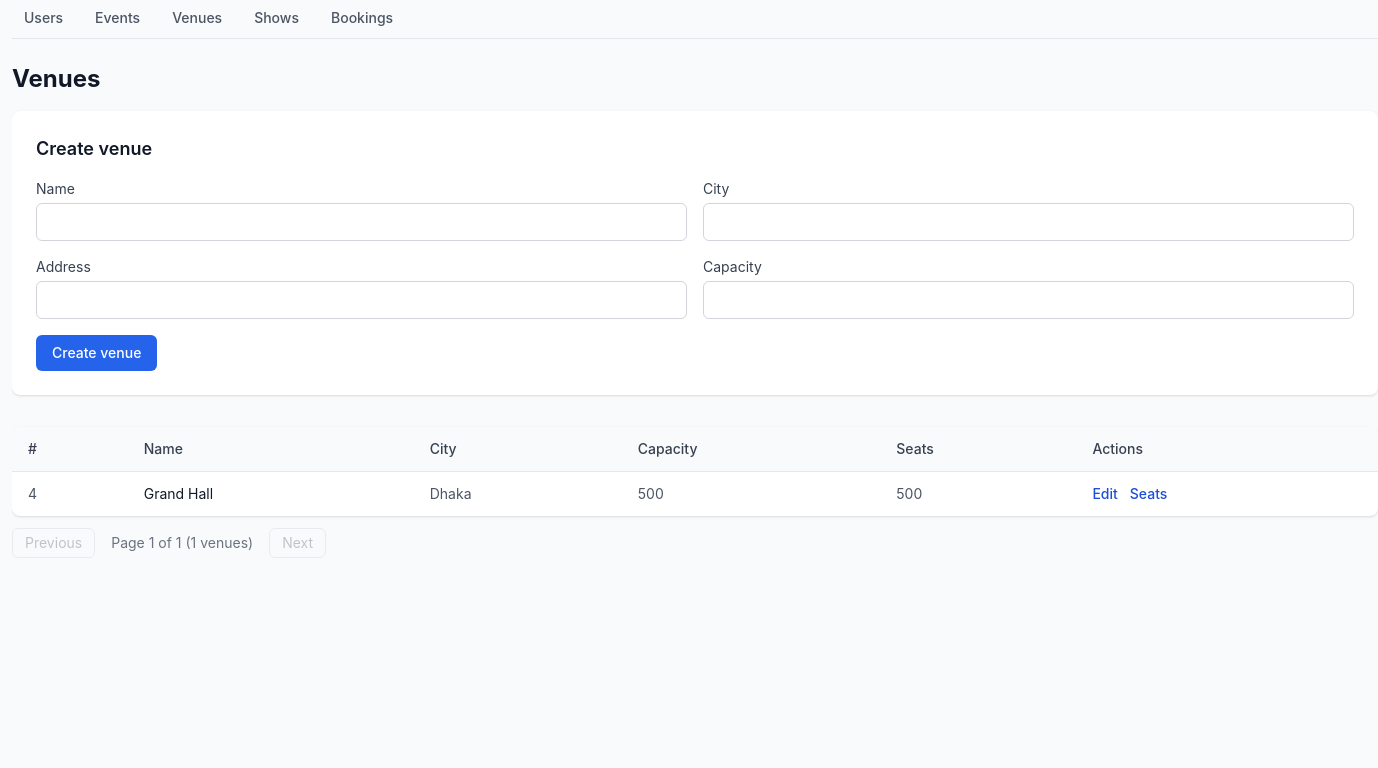
Test: AdminVenuesPage › renders venues and creates one via POST /admin/venues
Expected: the text "Grand Hall" is shown, [128,472,414,516]
Type "Test Hall" into the field named "Venue name". click: (362, 222)
box: [36,203,687,241]
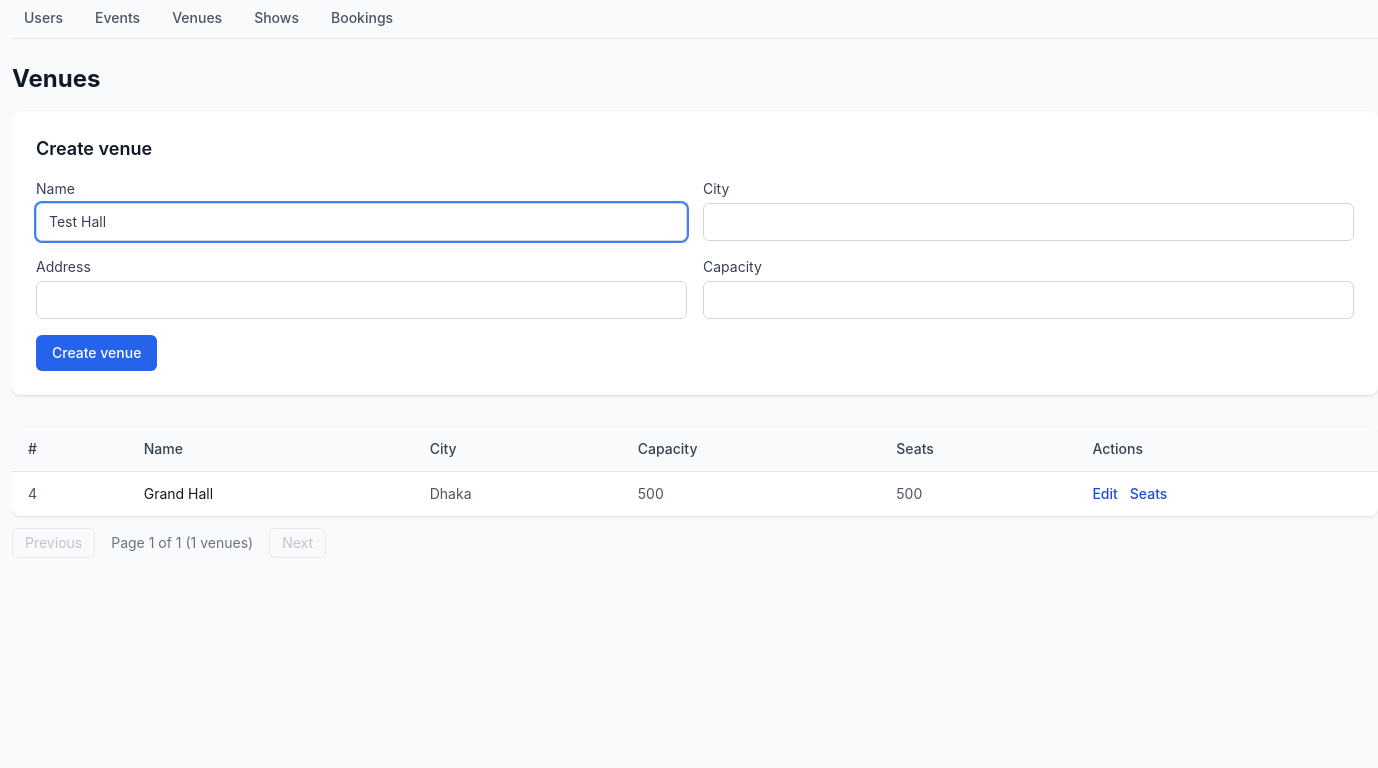
Type "Chattogram" into the field named "Venue city". click: (1028, 222)
box: [703,203,1354,241]
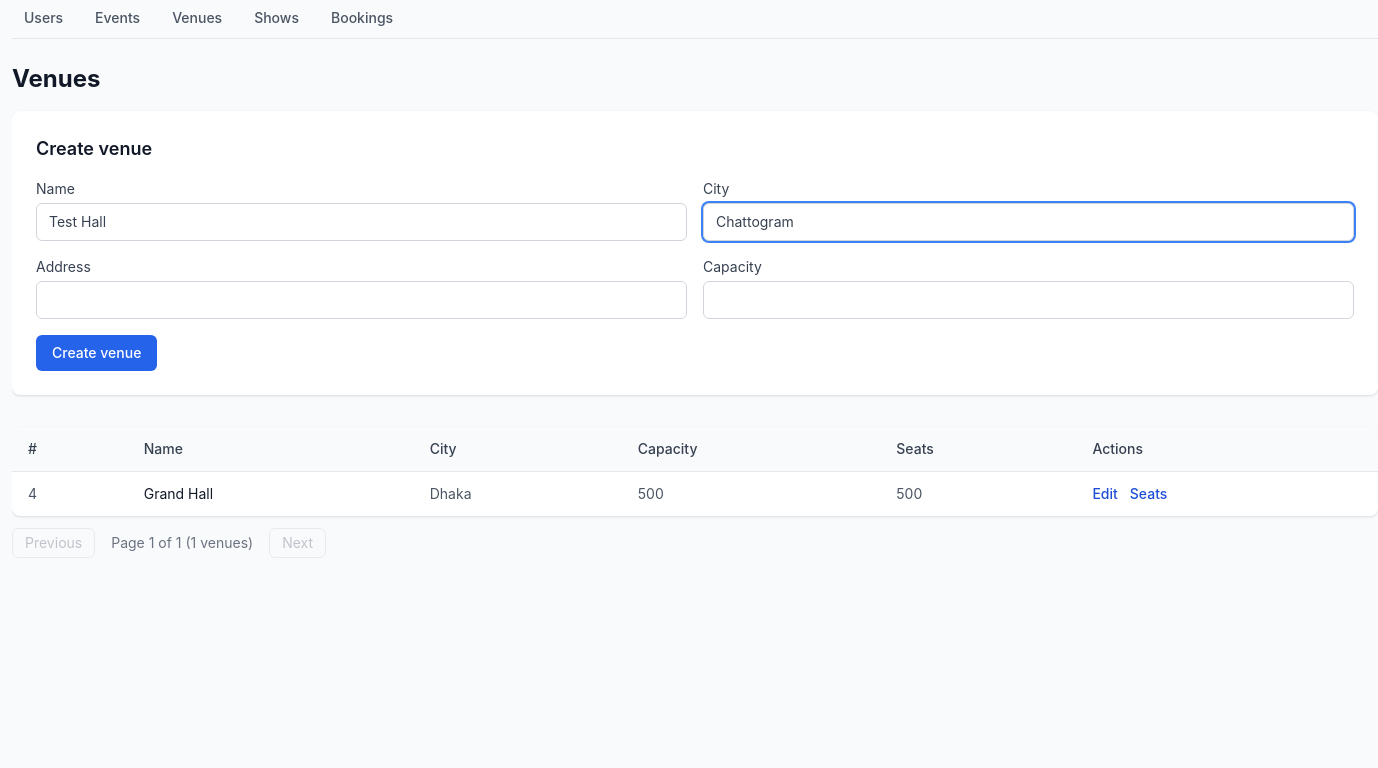
Type "250" into the number field named "Venue capacity". click: (1028, 300)
box: [703,281,1354,319]
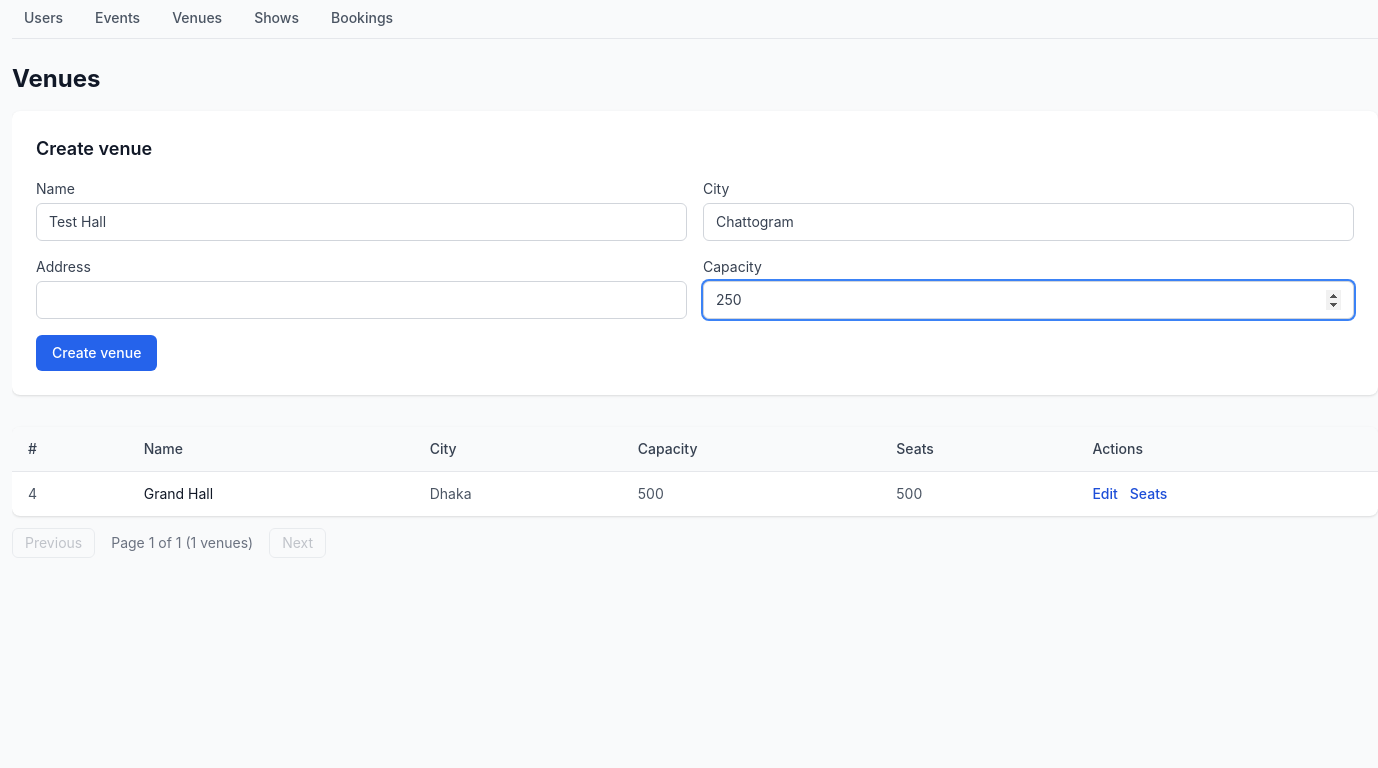
Click the button "Create venue". click: (97, 353)
box: [36,335,157,371]
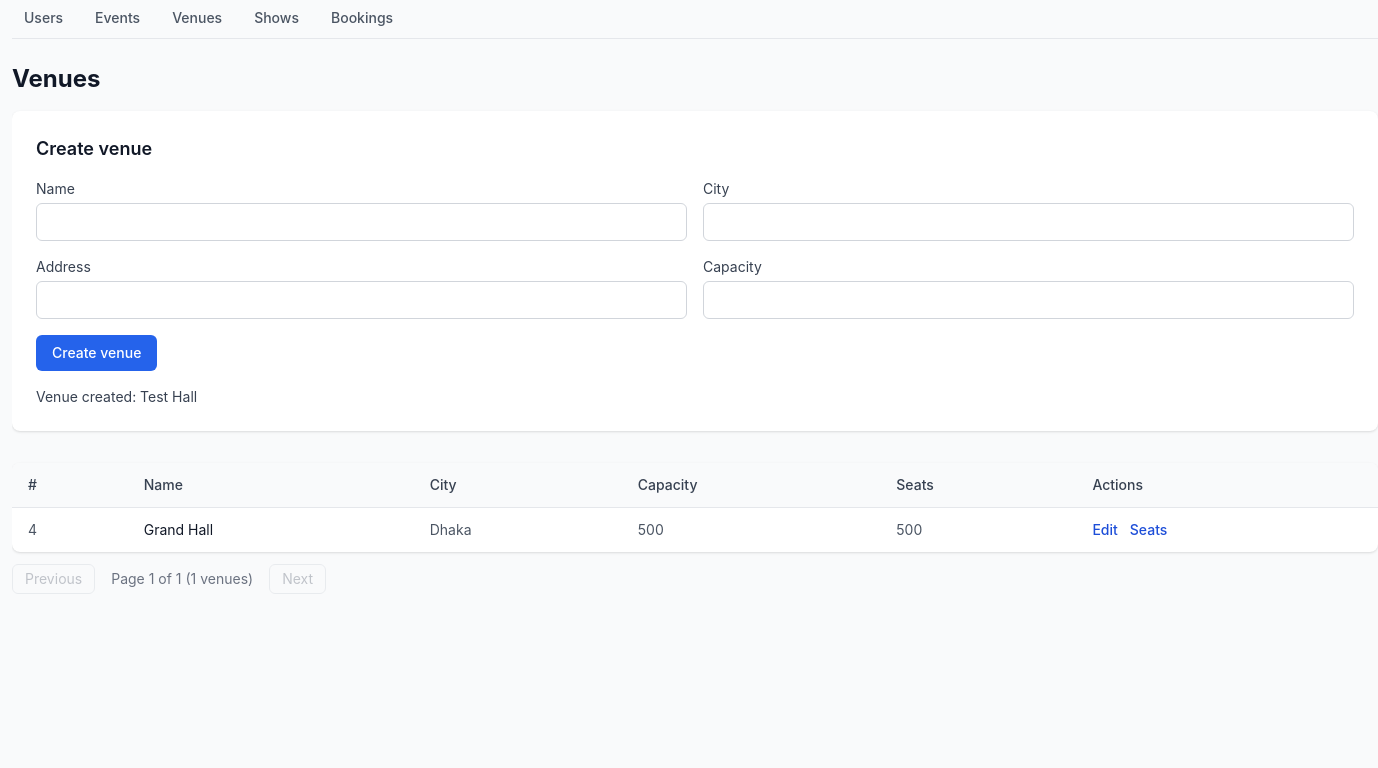
Now the text "Venue created: Test Hall" is shown, box [36,388,197,405]
